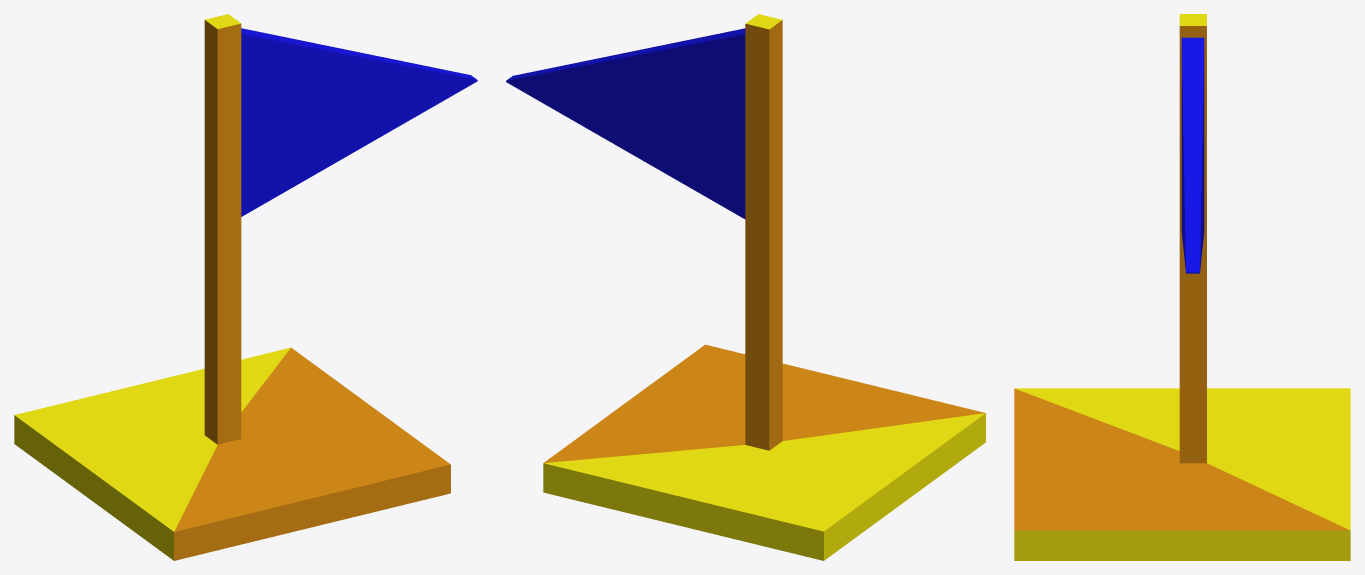
File: road_flag.max.fbx
3 views of the same model, side by side, from view 1: azimuth 30°, elevation 25°; view 2: azimuth 150°, elevation 25°; view 3: azimuth 270°, elevation 25° (orthographic). The views are drawn at different scales.
Parts seen in each view (by area): view 1: Box01; view 2: Box01; view 3: Box01.
Boxes of the visible parts, left/top/right/bottom form: Box01: left=14, top=14, right=477, bottom=560; Box01: left=506, top=14, right=985, bottom=560; Box01: left=1014, top=14, right=1350, bottom=560.
Bounding box in the file's own units: 1.39 × 1.53 × 1.
